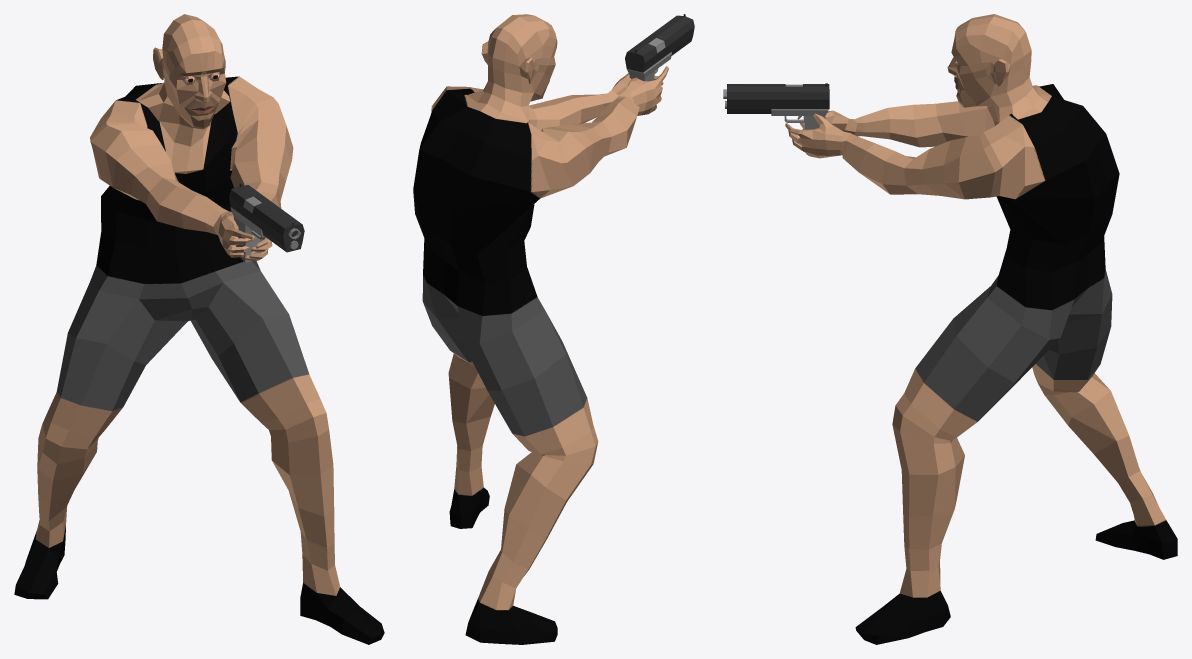
The model's file is PlayerShoot(29).obj.
3 renders of one model, left to right at view 1: azimuth 30°, elevation 25°; view 2: azimuth 150°, elevation 25°; view 3: azimuth 270°, elevation 25°, orthographic. The views are drawn at different scales.
Visible parts, largest first — view 1: Plane002, Box003; view 2: Plane002, Box003; view 3: Plane002, Box003.
Part boxes in pixels (x1,y1,x2,y2): Plane002: (14, 14, 384, 644); Box003: (229, 183, 304, 262); Plane002: (413, 14, 668, 644); Box003: (625, 14, 694, 81); Plane002: (785, 14, 1177, 644); Box003: (723, 83, 829, 151).
Bounding box in the file's own units: 713 × 1665 × 1207.
